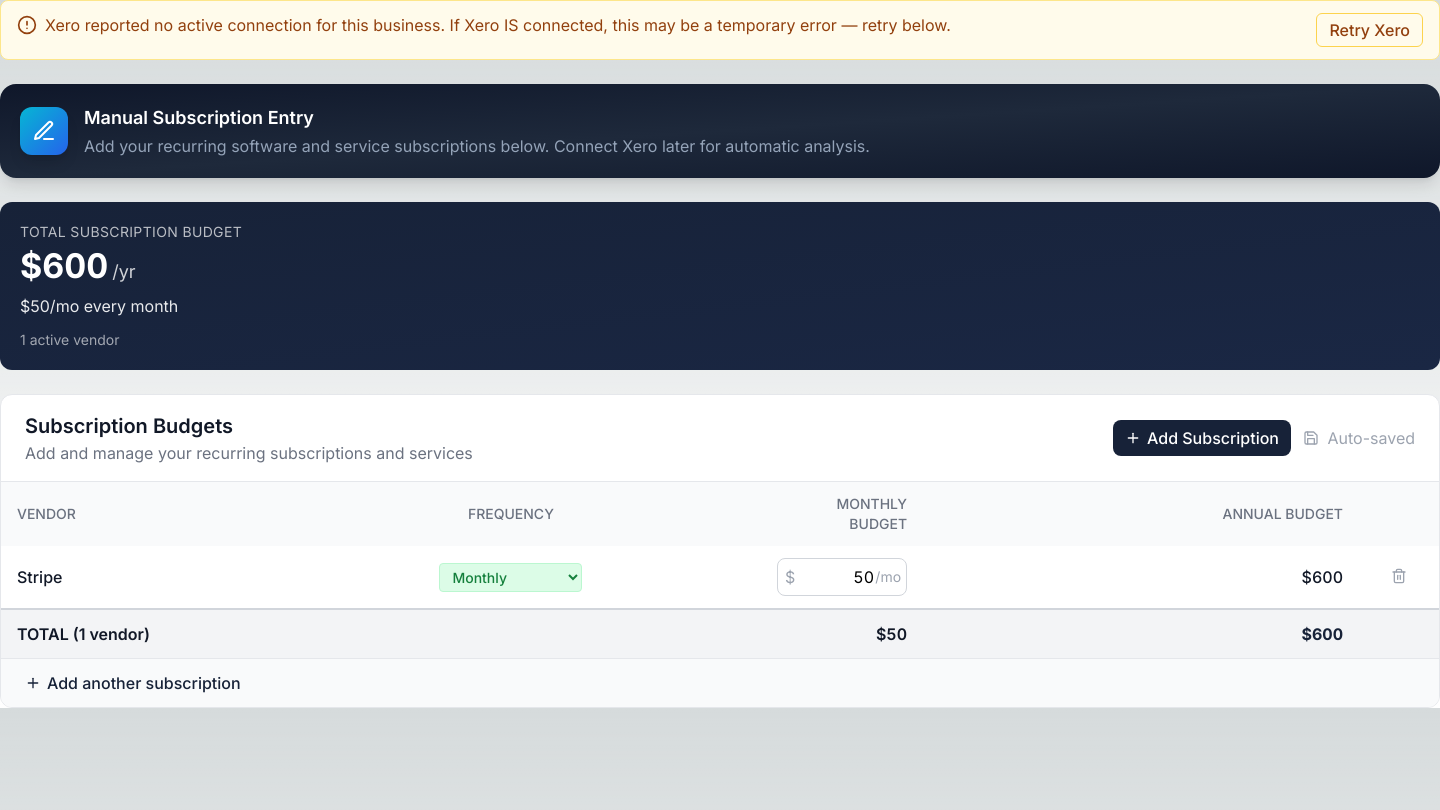
Test: Step 5 Subscriptions — VendorBudgetInput › clearing the field and tabbing away reverts — it must NOT commit $0
Expected: the text "Stripe" is shown, [17,567,62,587]
Clear the field: (842, 577) [777,558,907,596]
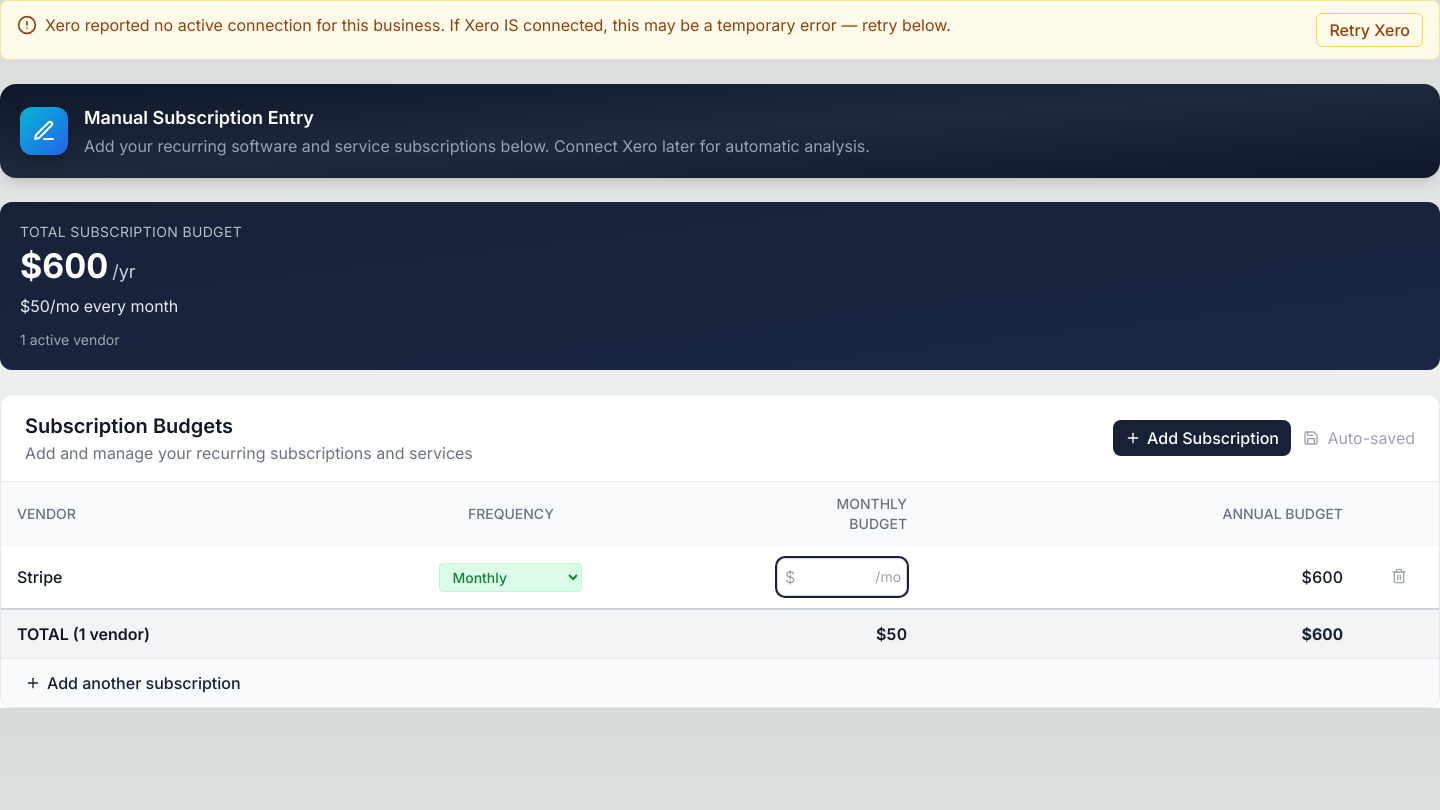
Press Tab
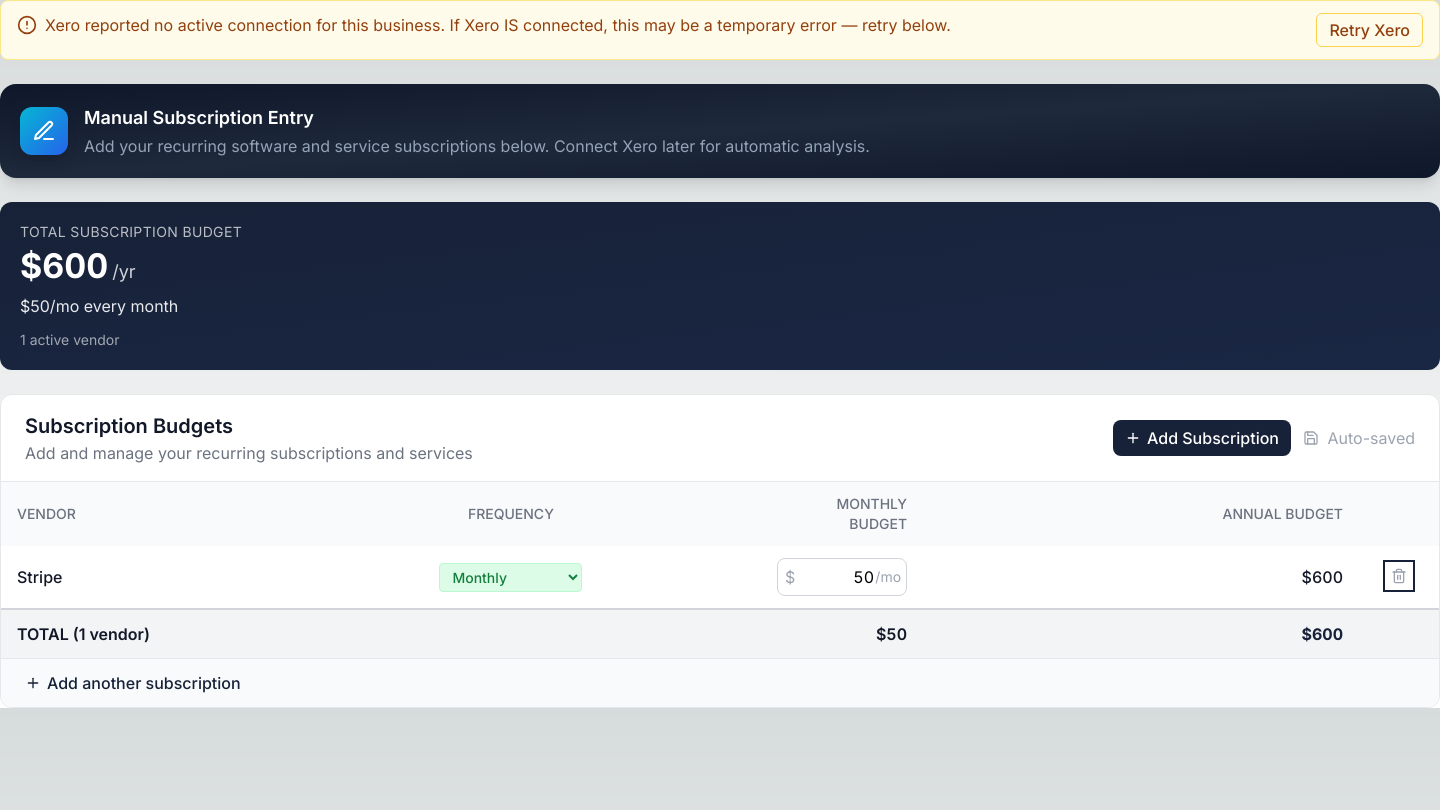
Expected: the field holds "50", [777,558,907,596]
